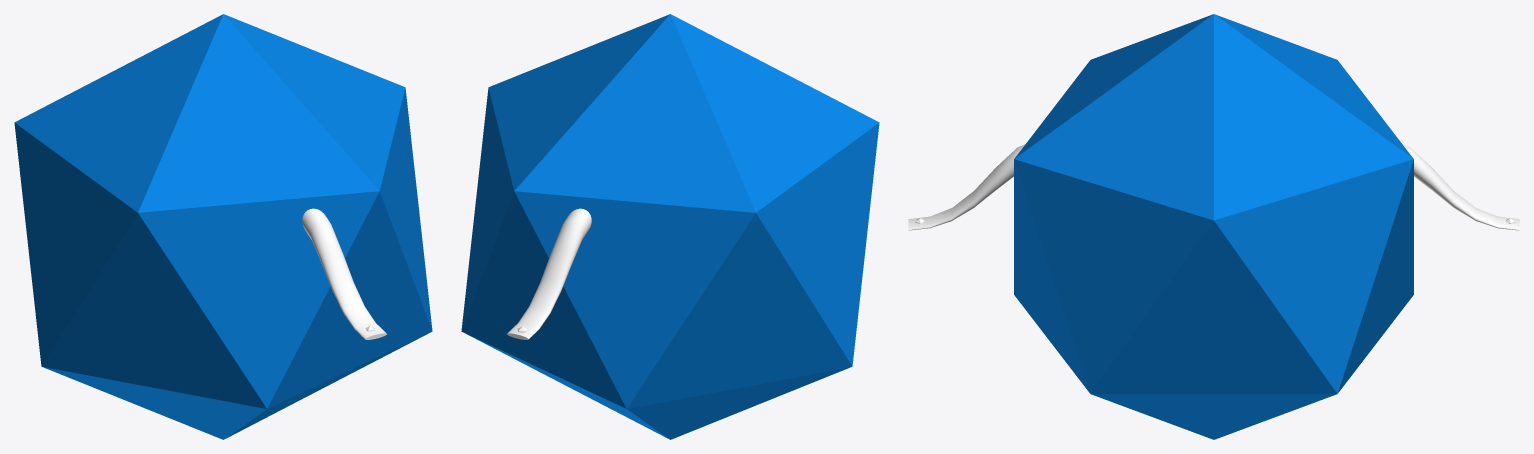
The model's file is Hand grip.glb.
3 views of the same model, side by side, from view 1: azimuth 30°, elevation 25°; view 2: azimuth 150°, elevation 25°; view 3: azimuth 270°, elevation 25° (orthographic).
Visible parts, largest first — view 1: Joint.032, Hand grip; view 2: Joint.032, Hand grip; view 3: Joint.032, Hand grip.
Part boxes in pixels (box(x1,y1,x2,y2)): Joint.032: box(14, 14, 432, 439); Hand grip: box(302, 208, 386, 339); Joint.032: box(461, 14, 879, 439); Hand grip: box(507, 208, 591, 339); Joint.032: box(1014, 14, 1413, 439); Hand grip: box(908, 144, 1519, 230).
Bounding box in the file's own units: 0.2726 × 0.3048 × 0.3962.
